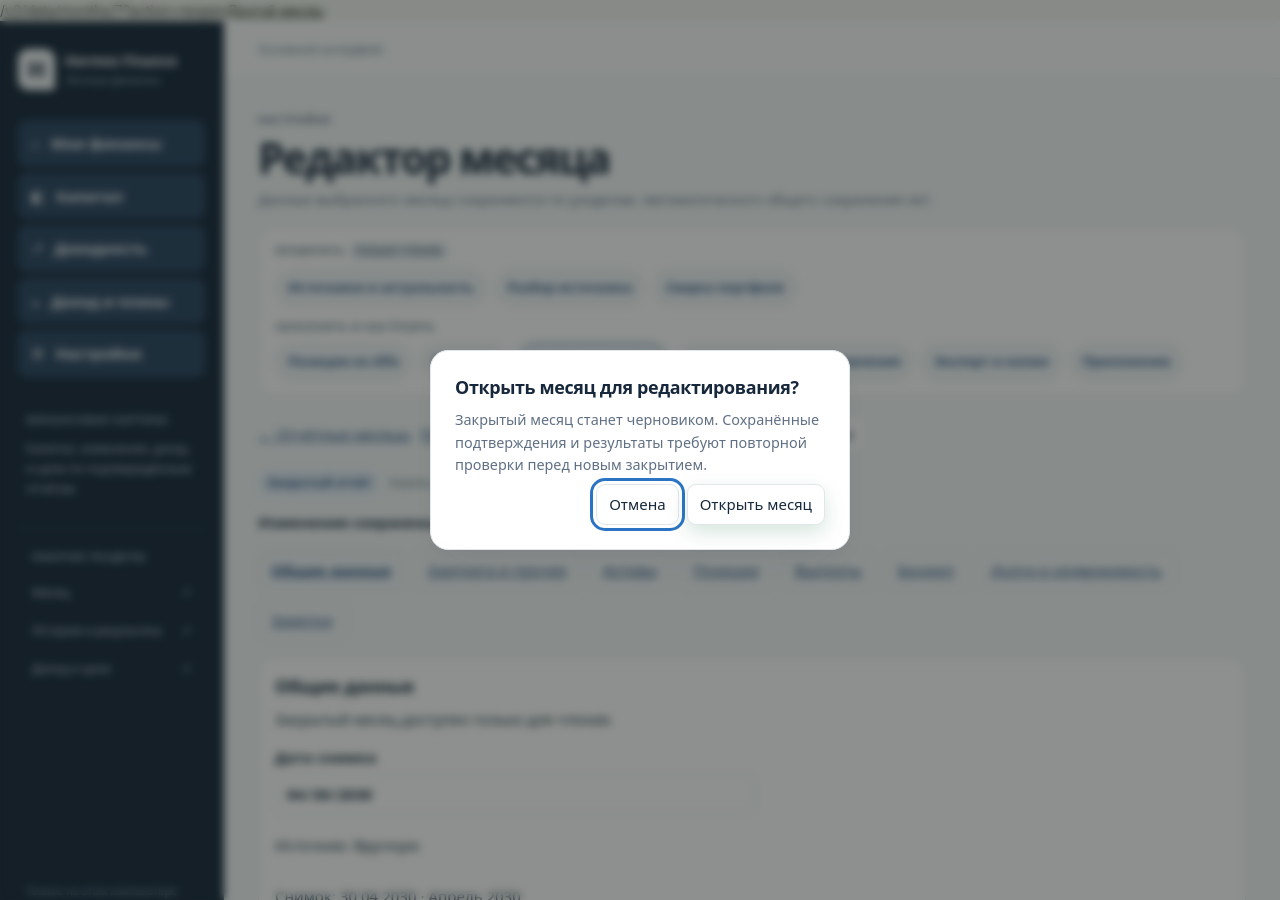
Test: native month editor frame › does not reopen a reused month ID for another calendar period
Expected: the dialog is shown, [430,350,850,550]
Click the button "Открыть месяц" at coordinates (756, 505), box [687,484,825,525]
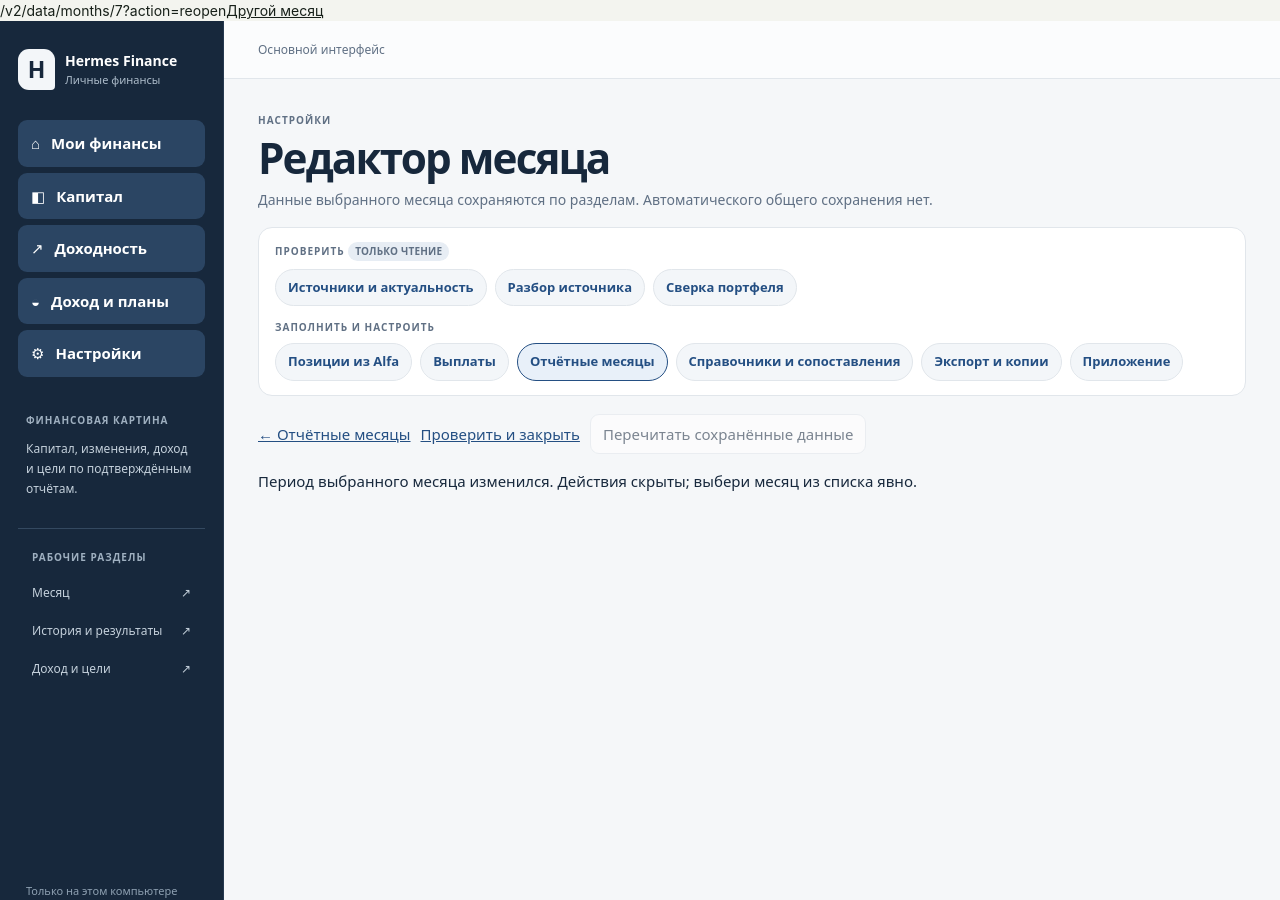
Result: the text "Период выбранного месяца изменился" is shown at [258,471,917,491]
